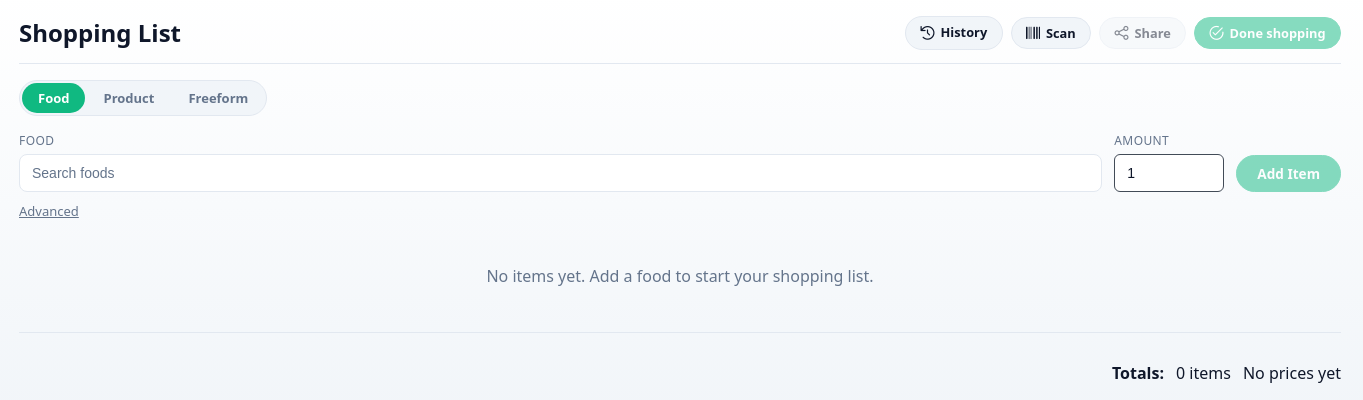
Test: ShoppingListView › disables Add Item on the Freeform tab until a name is entered
Click the tab "Freeform" at (218, 98), box 172,83 -> 264,113
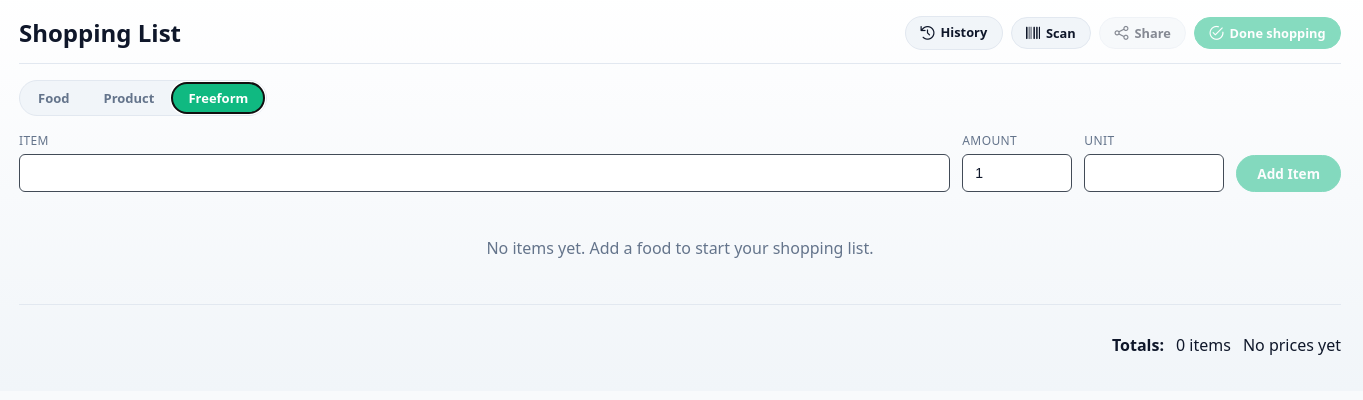
Check: the button "Add Item" is disabled, box 1236,155 -> 1341,192
Type "Napkins" into the field named "Shopping list item name" at (485, 173), box 19,154 -> 950,192
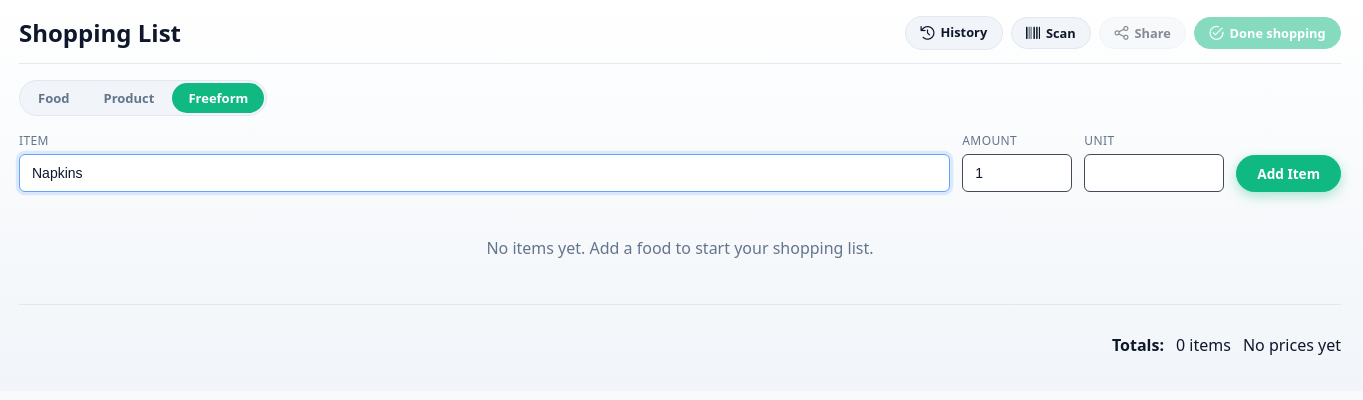
Check: the button "Add Item" is enabled, box 1236,155 -> 1341,192
